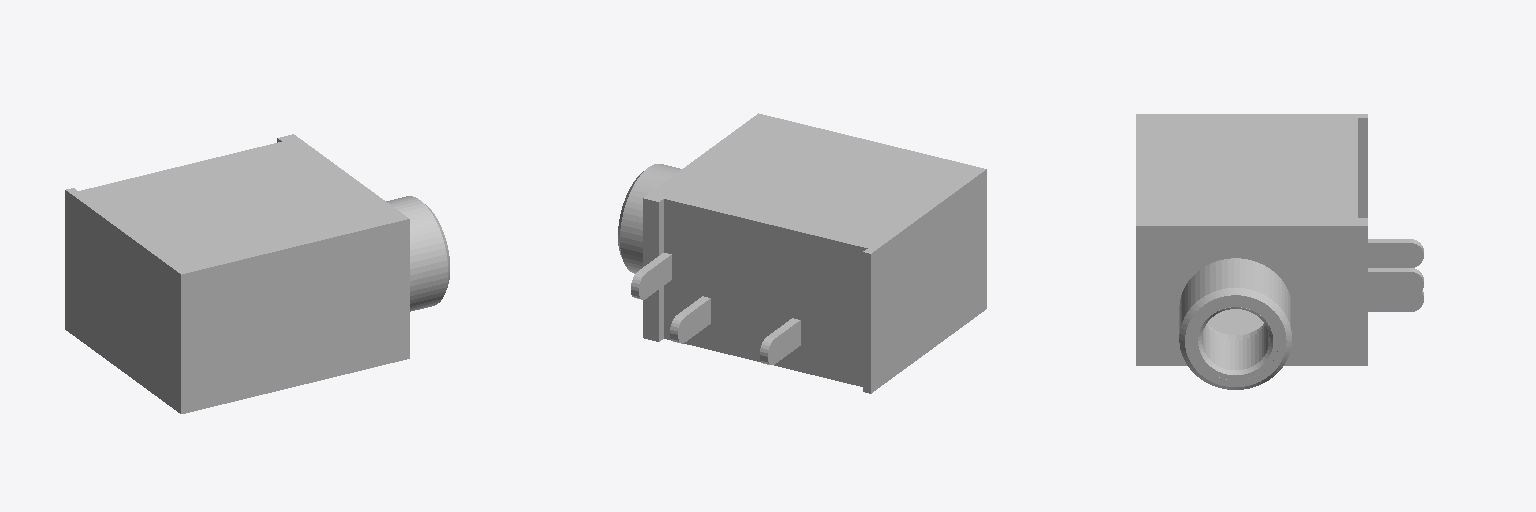
The model's file is Audio Jack.obj.
The picture shows the model from 3 angles: view 1: azimuth 30°, elevation 25°; view 2: azimuth 150°, elevation 25°; view 3: azimuth 270°, elevation 25°; orthographic projection.
Parts seen in each view (by area): view 1: Solid1:1, Solid3:1; view 2: Solid1:1, Solid3:1, Solid2, Solid1, Solid3; view 3: Solid1:1, Solid3:1, Solid2:1, Solid3, Solid2, Solid1.
Part boxes in pixels (x1,y1,x2,y2): Solid1:1: (65,134,409,413); Solid3:1: (386,196,449,311); Solid1:1: (643,113,986,393); Solid3:1: (618,164,681,273); Solid2: (760,318,800,364); Solid1: (670,296,710,343); Solid3: (631,253,671,299); Solid1:1: (1136,114,1367,365); Solid3:1: (1179,258,1291,389); Solid2:1: (1192,302,1278,379); Solid3: (1368,268,1423,296); Solid2: (1368,239,1423,267); Solid1: (1368,290,1423,311).
Bounding box in the file's own units: 18 × 8.2 × 15.3.